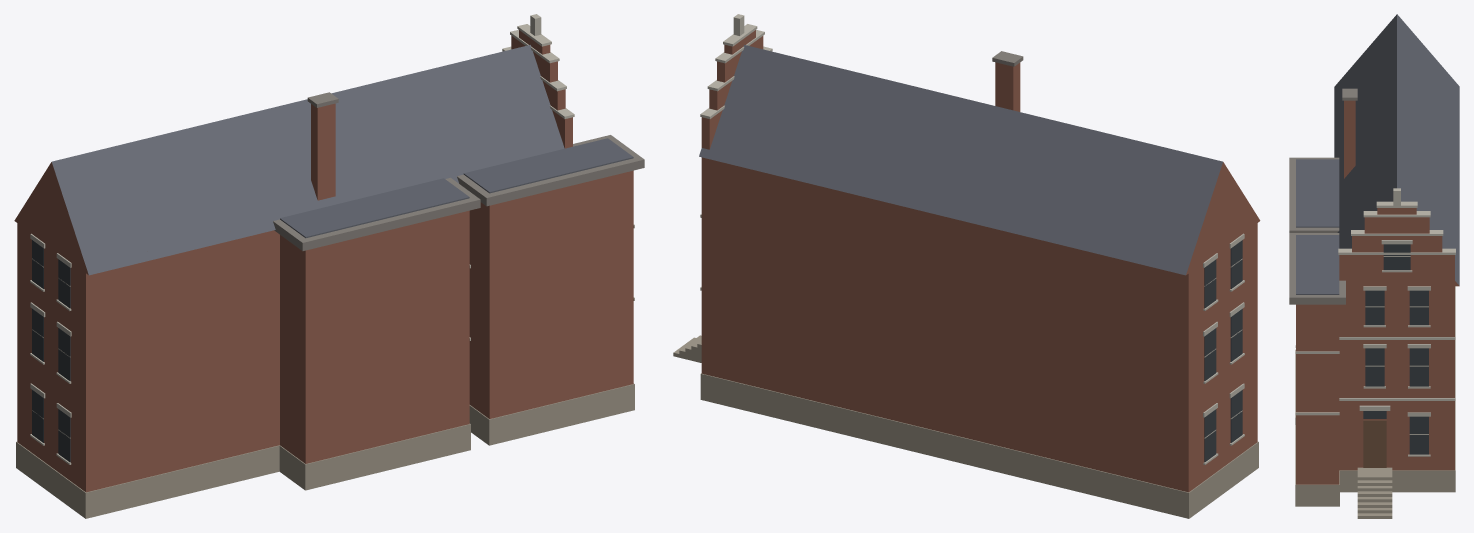
The model's file is wheeler_house_1812_prairie__draft_1904.glb.
3 views of the same model, side by side, from view 1: azimuth 30°, elevation 25°; view 2: azimuth 150°, elevation 25°; view 3: azimuth 270°, elevation 25° (orthographic). The views are drawn at different scales.
Parts seen in each view (by area): view 1: wheeler_house_1812_prairie__draft_1904; view 2: wheeler_house_1812_prairie__draft_1904; view 3: wheeler_house_1812_prairie__draft_1904.
Boxes of the visible parts, x1=… form: wheeler_house_1812_prairie__draft_1904: x1=14, y1=14, x2=644, y2=518; wheeler_house_1812_prairie__draft_1904: x1=673, y1=14, x2=1260, y2=518; wheeler_house_1812_prairie__draft_1904: x1=1289, y1=14, x2=1459, y2=518.
Bounding box in the file's own units: 27.89 × 17.24 × 8.85.
